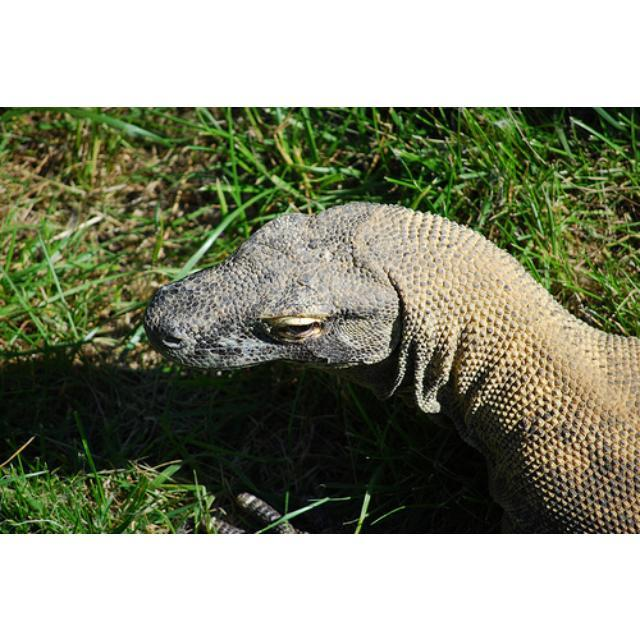KomodoDragon: (141, 199, 637, 531)
